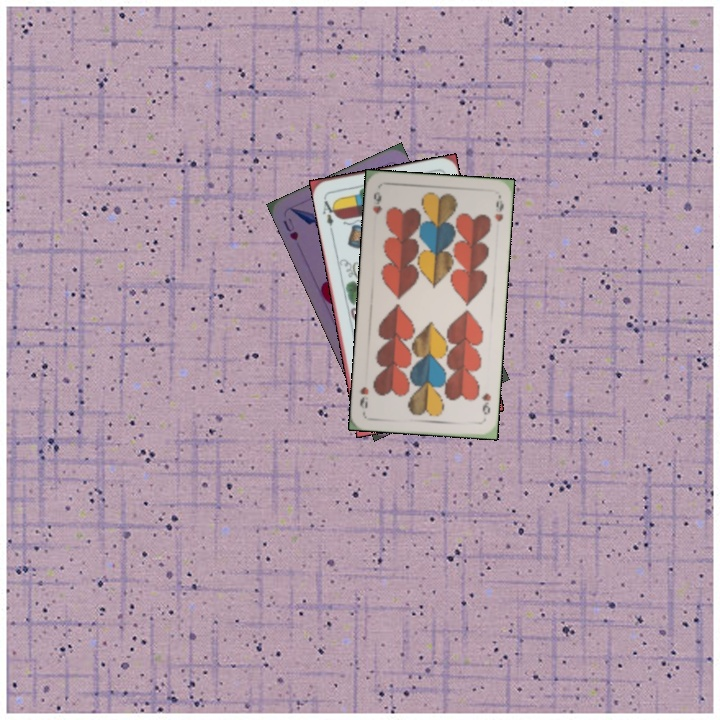EA: (318, 193, 339, 234)
H9: (369, 188, 385, 218), (478, 389, 494, 417)
HU: (279, 214, 301, 243)
